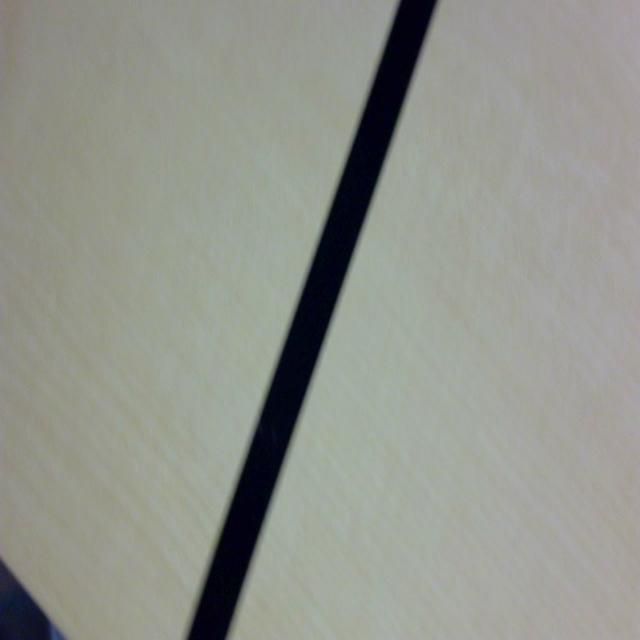tape: (185, 1, 438, 638)
